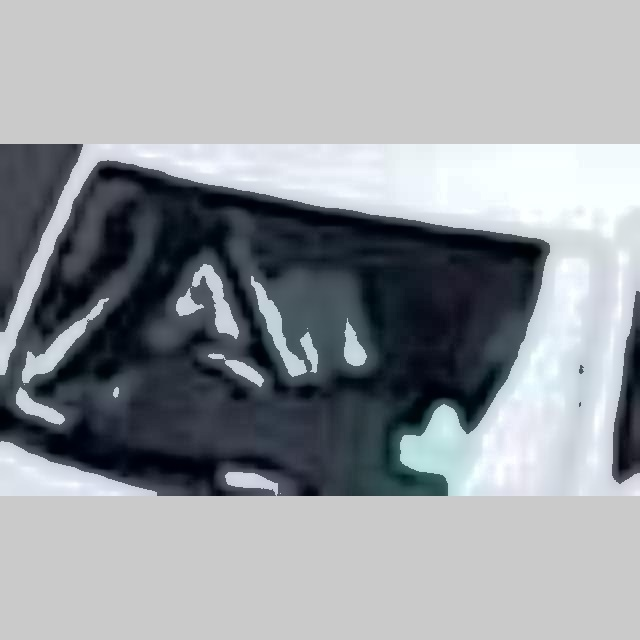pakai: (136, 192, 376, 384)
